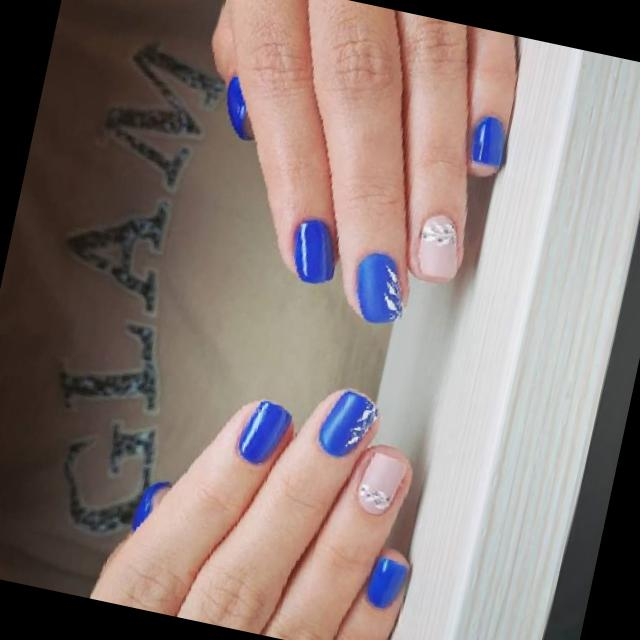Nail: (318, 390, 377, 456), (238, 399, 291, 463), (356, 251, 402, 322), (357, 451, 406, 514), (417, 213, 457, 280), (293, 218, 334, 283), (366, 556, 409, 608), (131, 480, 171, 531), (470, 115, 505, 166), (226, 75, 253, 140)
